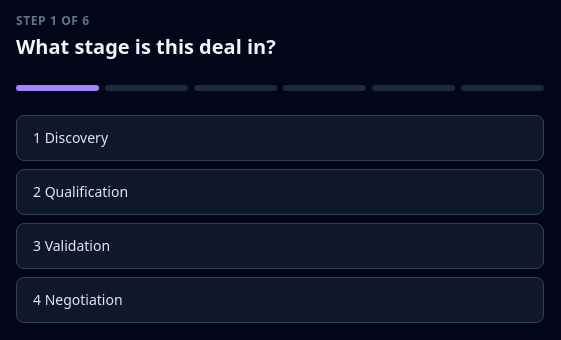
it: IntakeScreen — field-first flow › advances from one field to the next on submit
Check: the heading "What stage is this deal in?" is shown, box 16,33 -> 276,60
Note: Click a stage option
What coordinates should you click on to do the following:
click the button "3 Validation"
I would click on:
 (72, 246)
Its box is 16,223 -> 544,269.
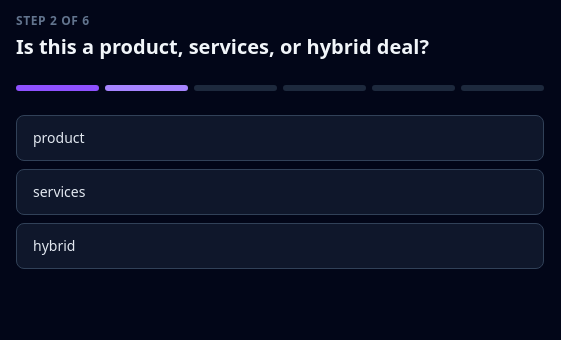
Check: the heading "Is this a product, services, or hybrid deal?" is shown, box 16,33 -> 429,60
